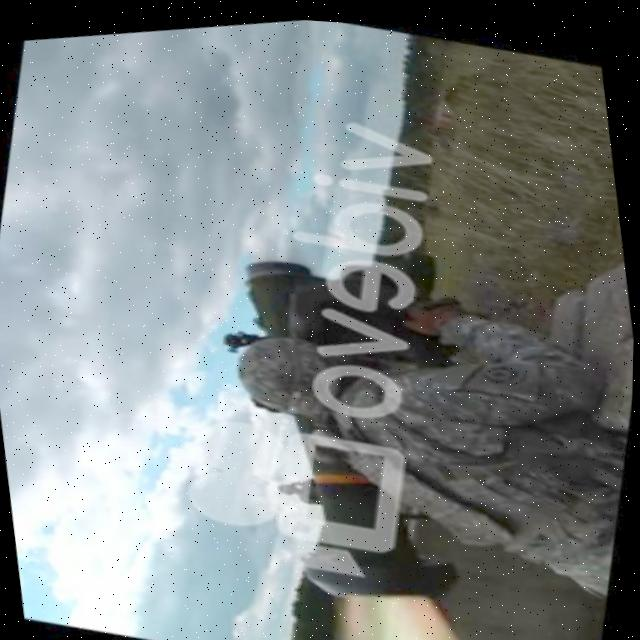rocket: (164, 214, 525, 640)
